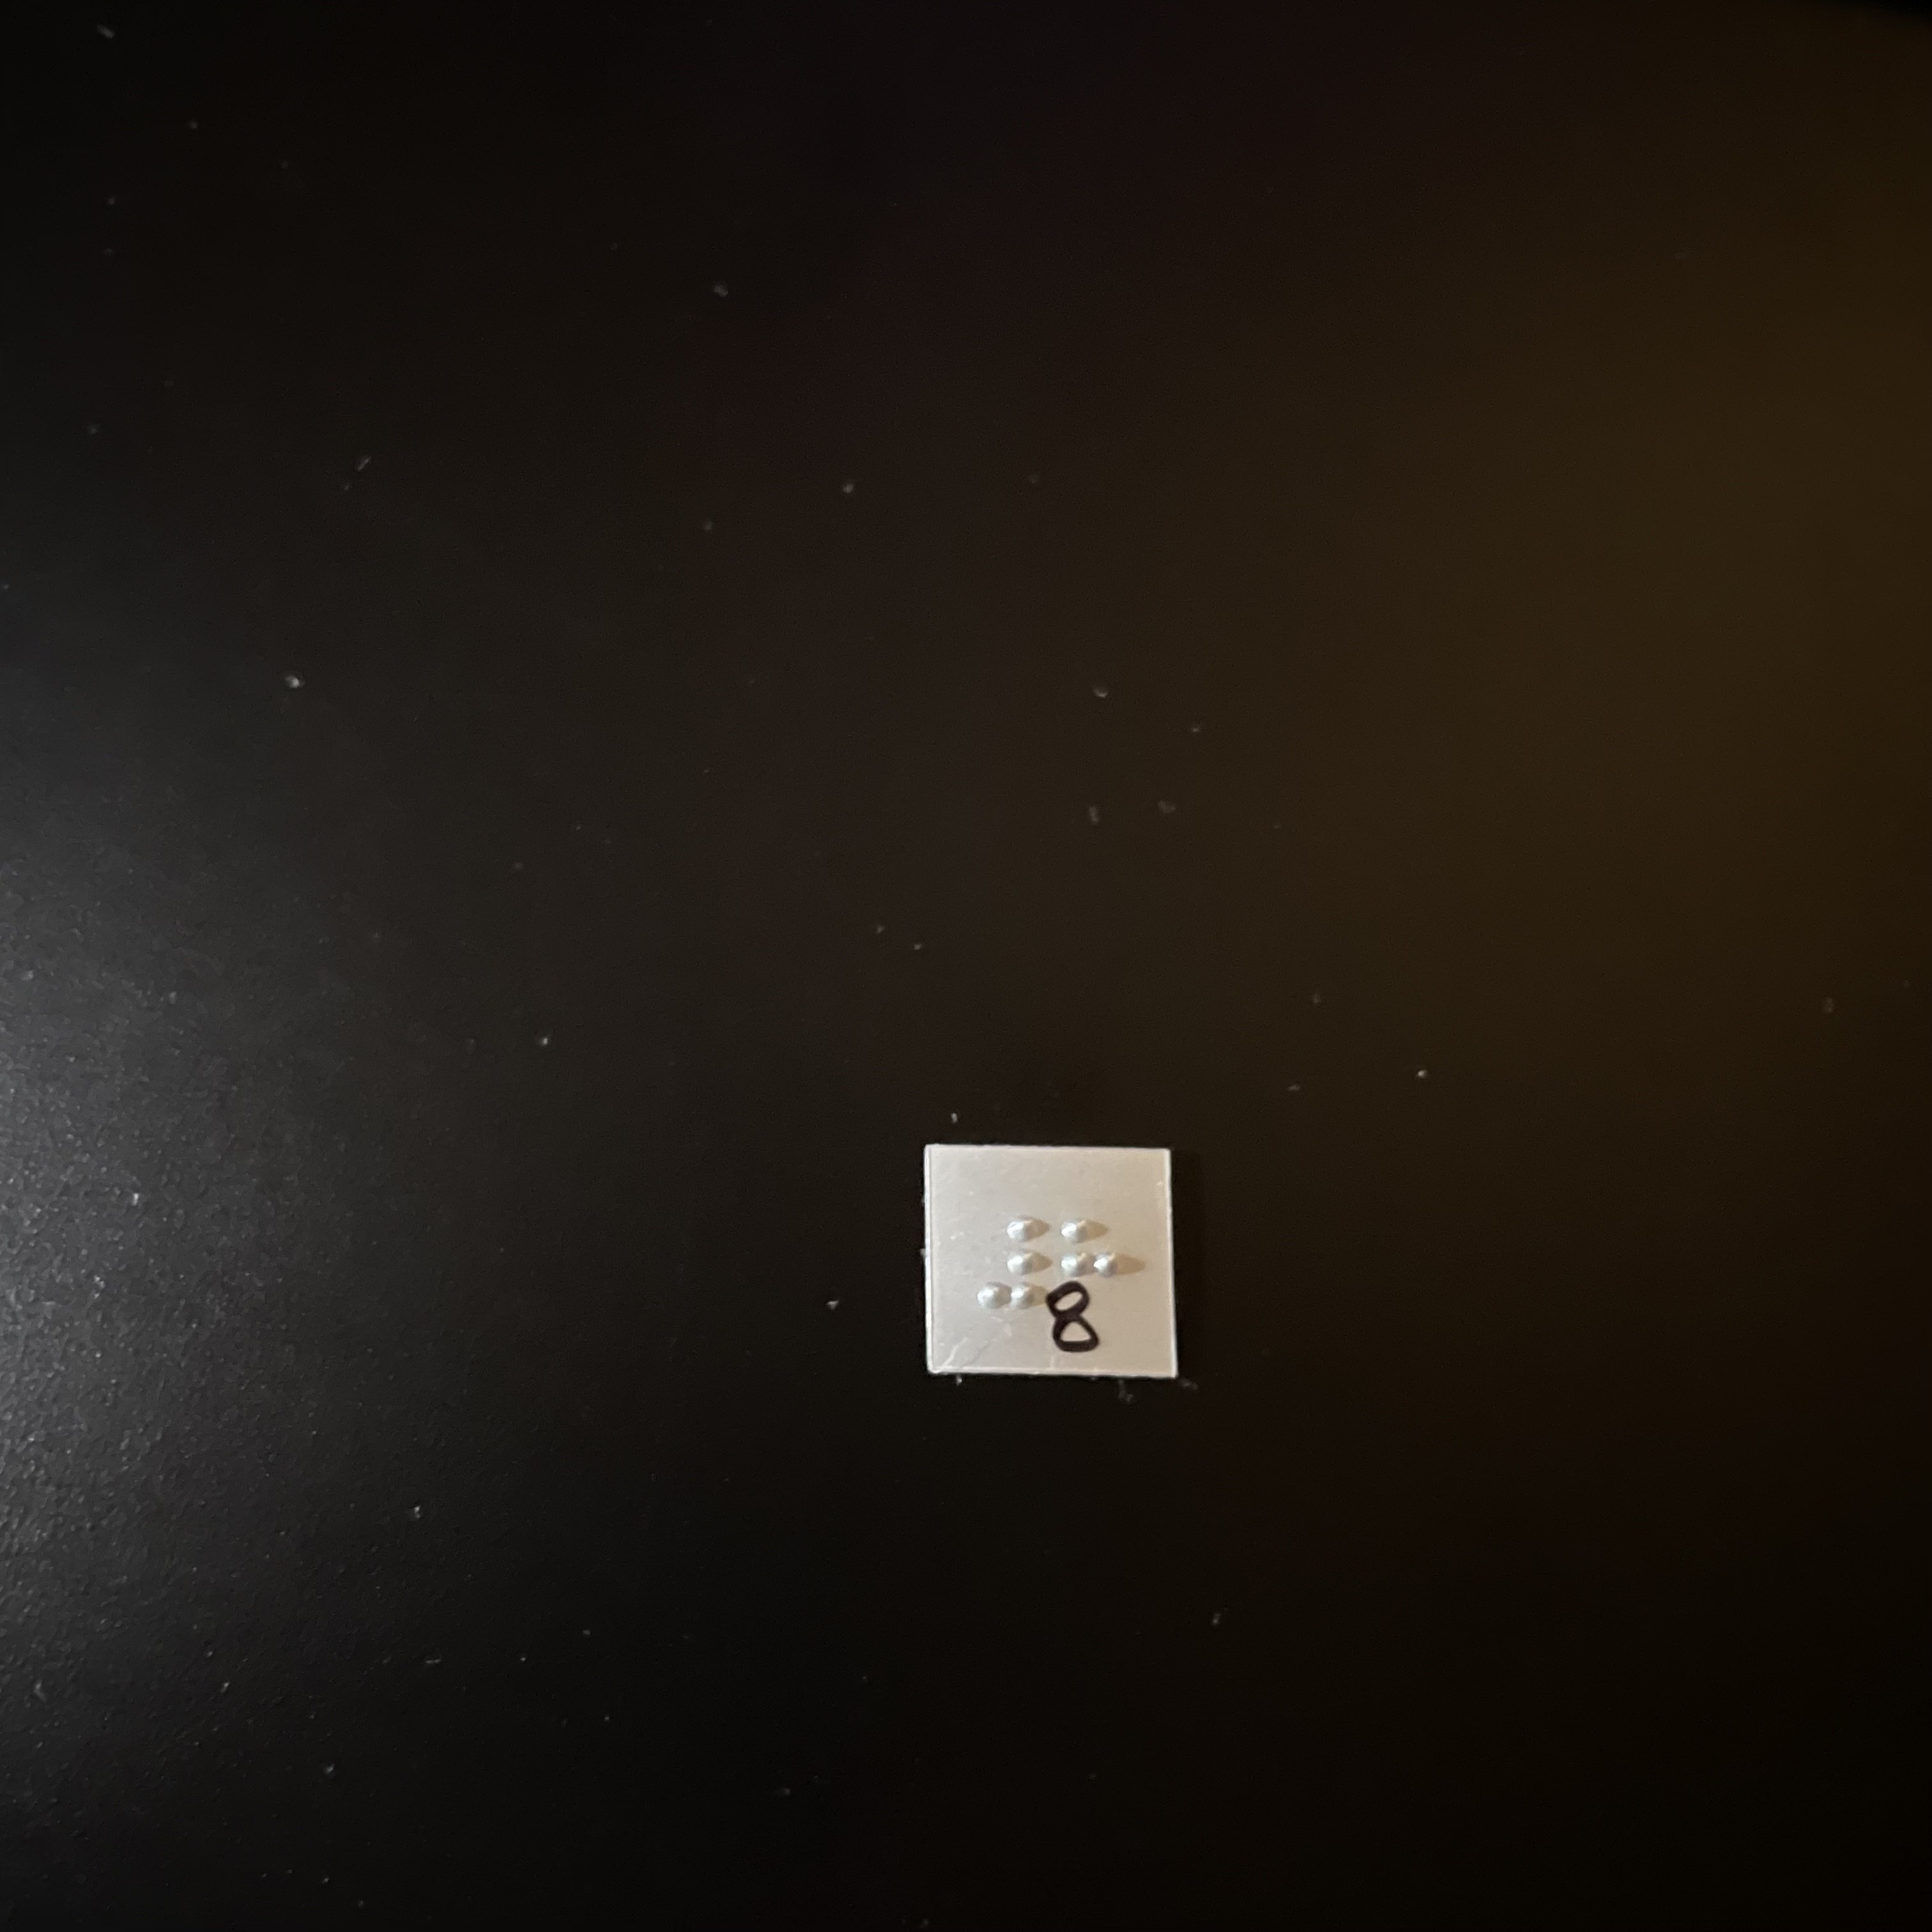#: (970, 1214, 1052, 1317)
h: (1054, 1214, 1133, 1322)
